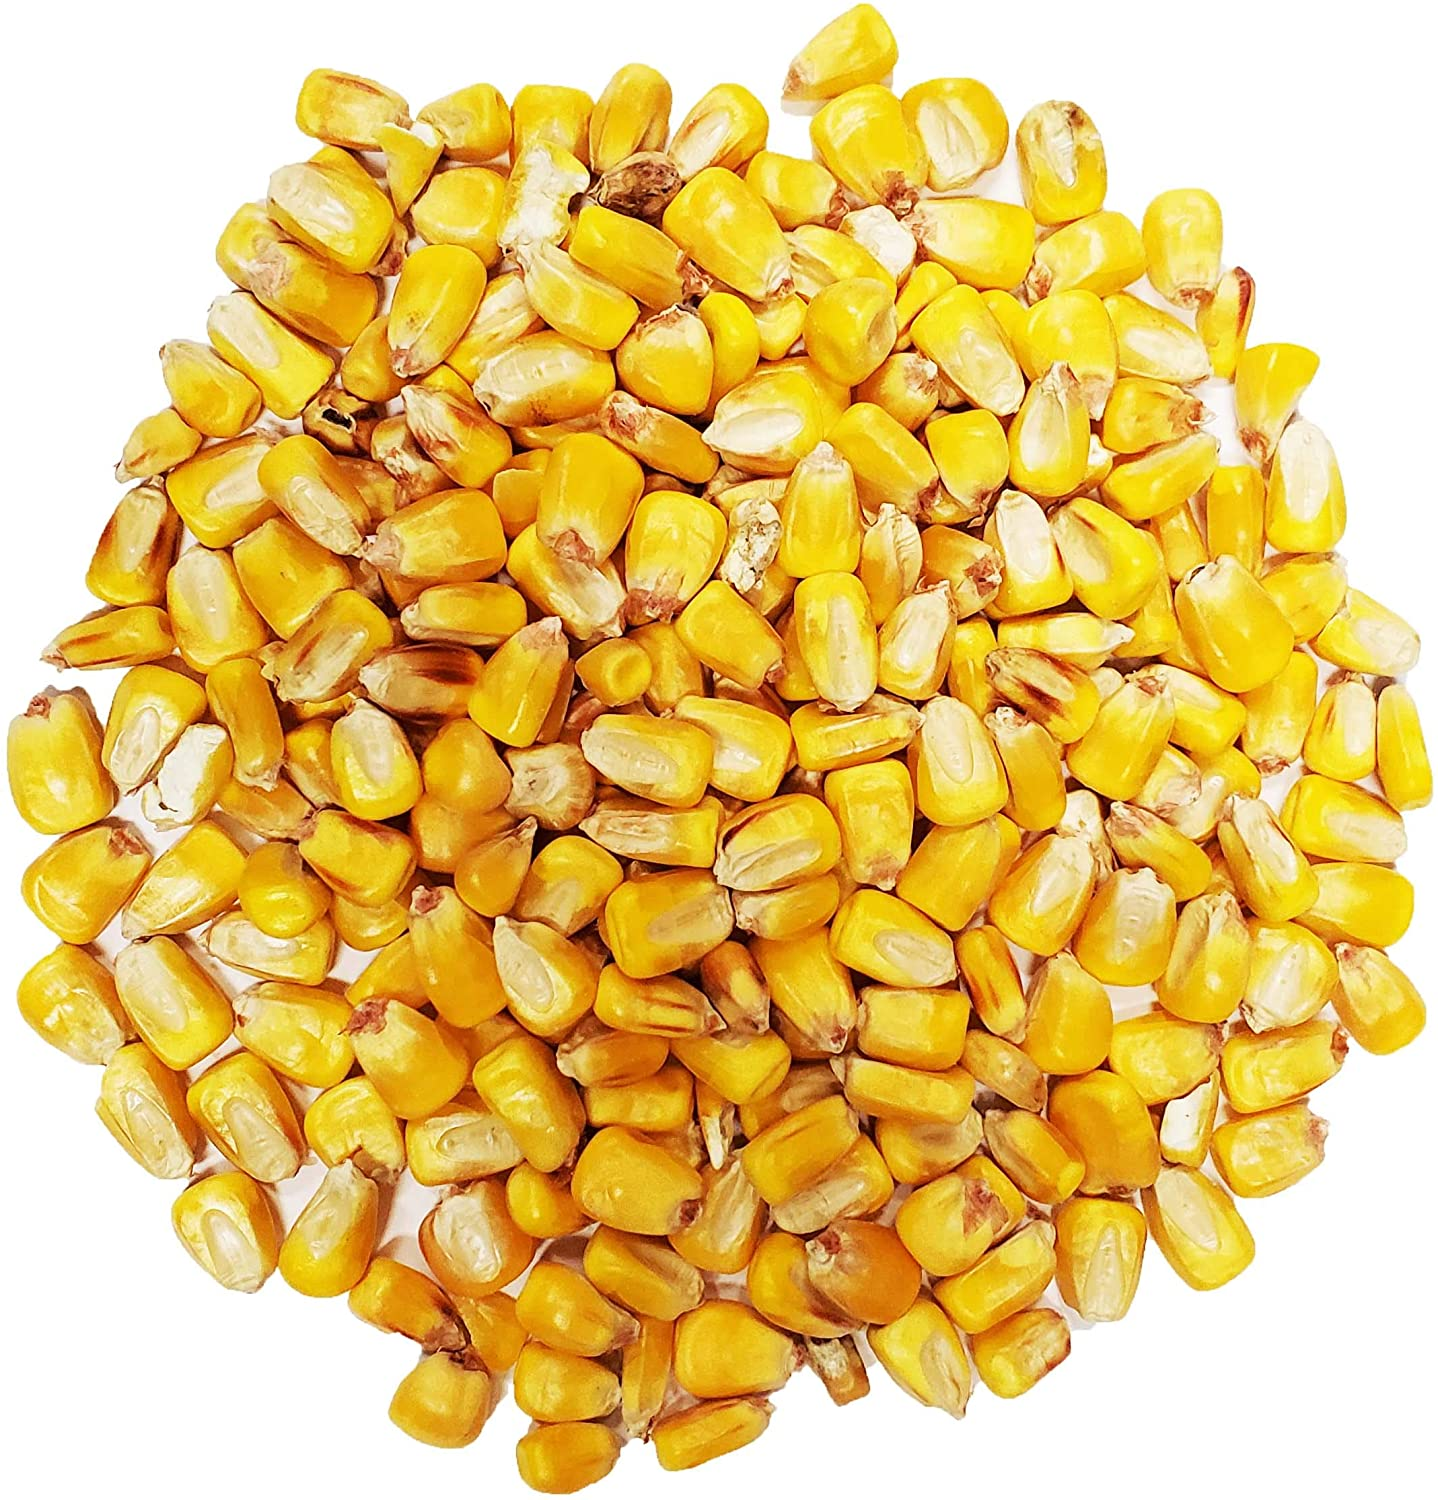seed: (9, 1, 1429, 1500)
